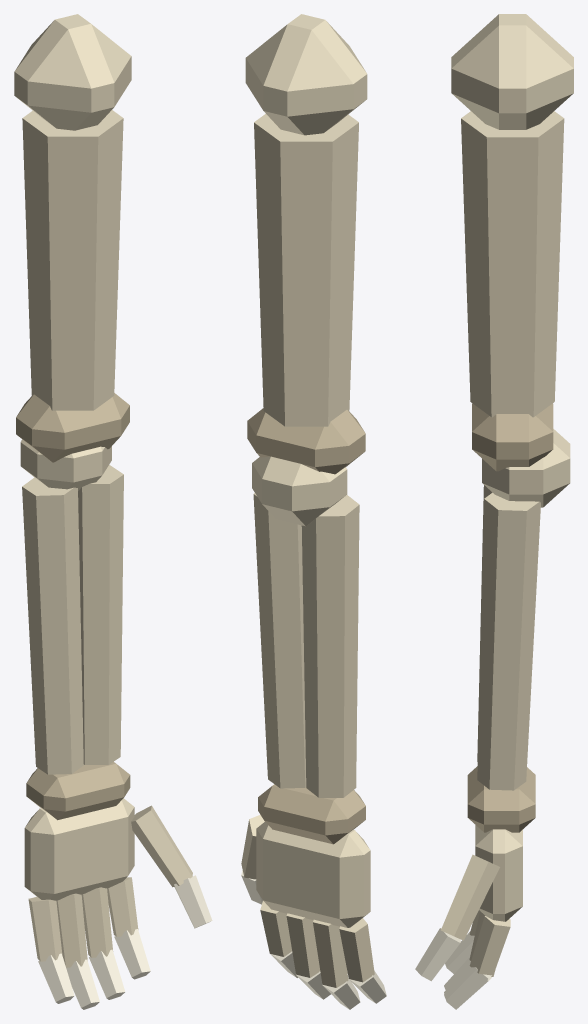
The model's file is braccio.glb.
3 views of the same model, side by side, from view 1: azimuth 30°, elevation 25°; view 2: azimuth 150°, elevation 25°; view 3: azimuth 270°, elevation 25° (orthographic). The views are drawn at different scales.
Visible parts, largest first — view 1: braccio2; view 2: braccio2; view 3: braccio2.
Part boxes in pixels (box(x1,y1,x2,y2)): braccio2: box(14, 14, 212, 1009); braccio2: box(241, 14, 386, 1009); braccio2: box(415, 14, 573, 1009).
Size of the model in its own units: 0.1272 by 0.8002 by 0.1167.
